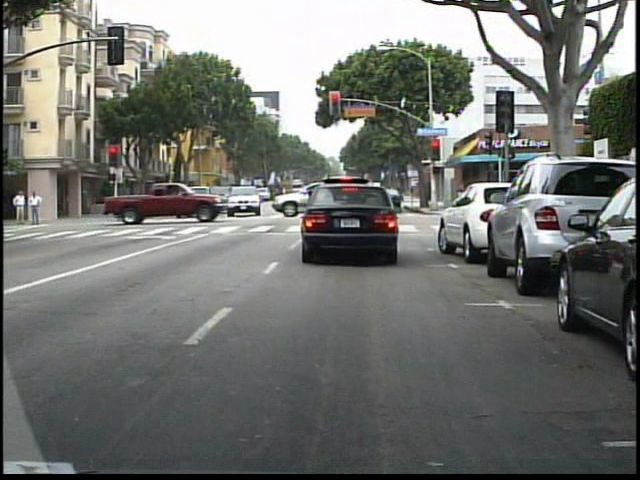person: (11, 187, 28, 228), (28, 189, 43, 228)
